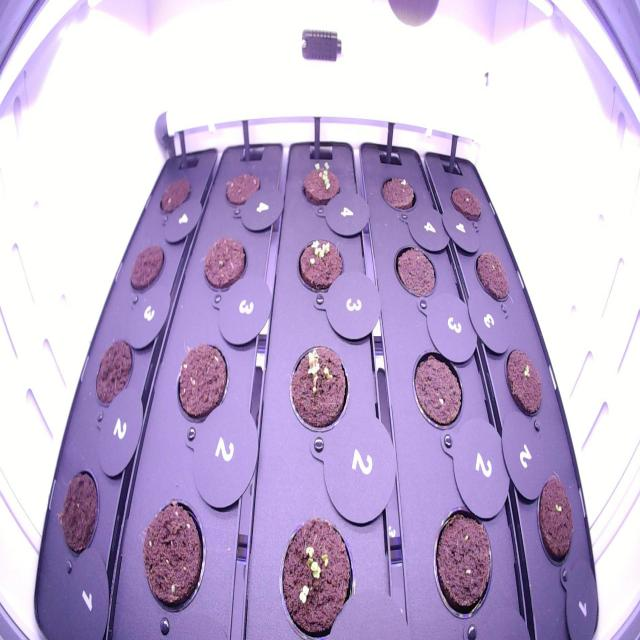germination: (272, 507, 363, 638), (284, 337, 354, 436), (529, 465, 579, 577), (497, 338, 546, 424), (293, 229, 348, 303), (293, 154, 344, 216), (374, 165, 423, 220)
pod: (134, 489, 211, 616), (429, 498, 496, 623), (406, 340, 467, 438), (170, 335, 232, 423), (57, 461, 102, 566), (388, 236, 441, 306), (93, 329, 136, 414), (198, 230, 250, 297), (472, 243, 518, 310), (126, 236, 168, 301), (219, 160, 264, 218), (153, 166, 193, 222), (446, 179, 488, 225)
